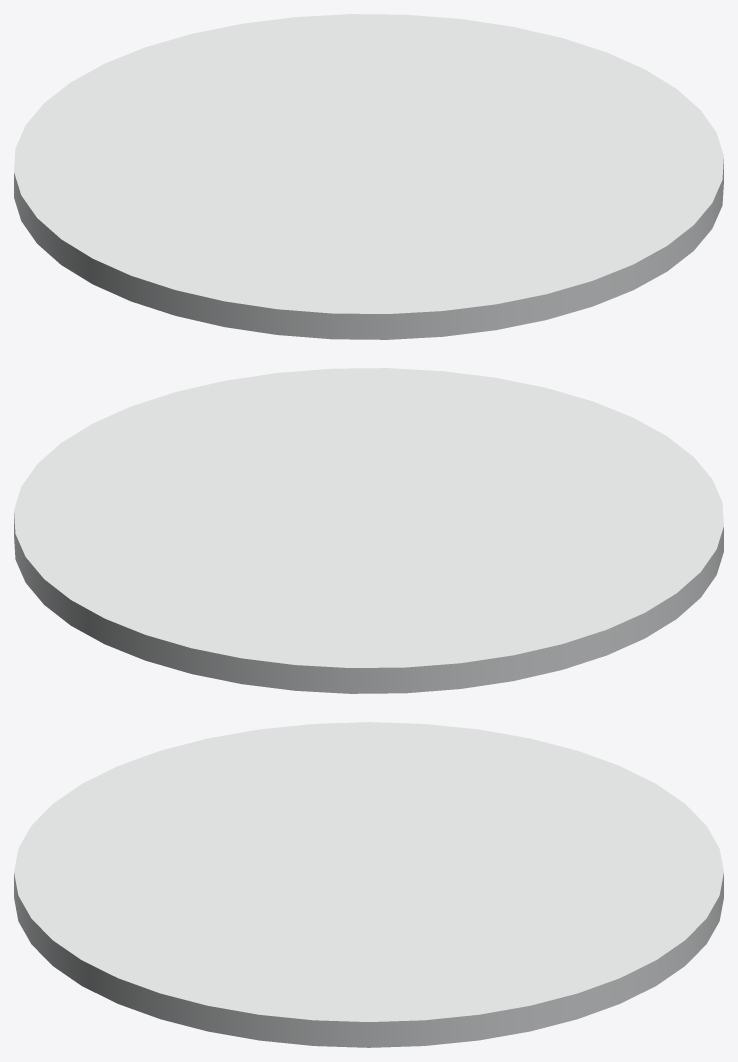
Rendered from Platform.Cylinder.002.fbx.
3 renders of one model, top to bottom at view 1: azimuth 30°, elevation 25°; view 2: azimuth 150°, elevation 25°; view 3: azimuth 270°, elevation 25°, orthographic.
Visible parts, largest first — view 1: Platform.Cylinder.002; view 2: Platform.Cylinder.002; view 3: Platform.Cylinder.002.
Boxes of the visible parts, <box> form: Platform.Cylinder.002: <box>14,14,723,339</box>; Platform.Cylinder.002: <box>14,368,723,693</box>; Platform.Cylinder.002: <box>14,722,723,1047</box>.
Bounding box in the file's own units: 25 × 1 × 25.
